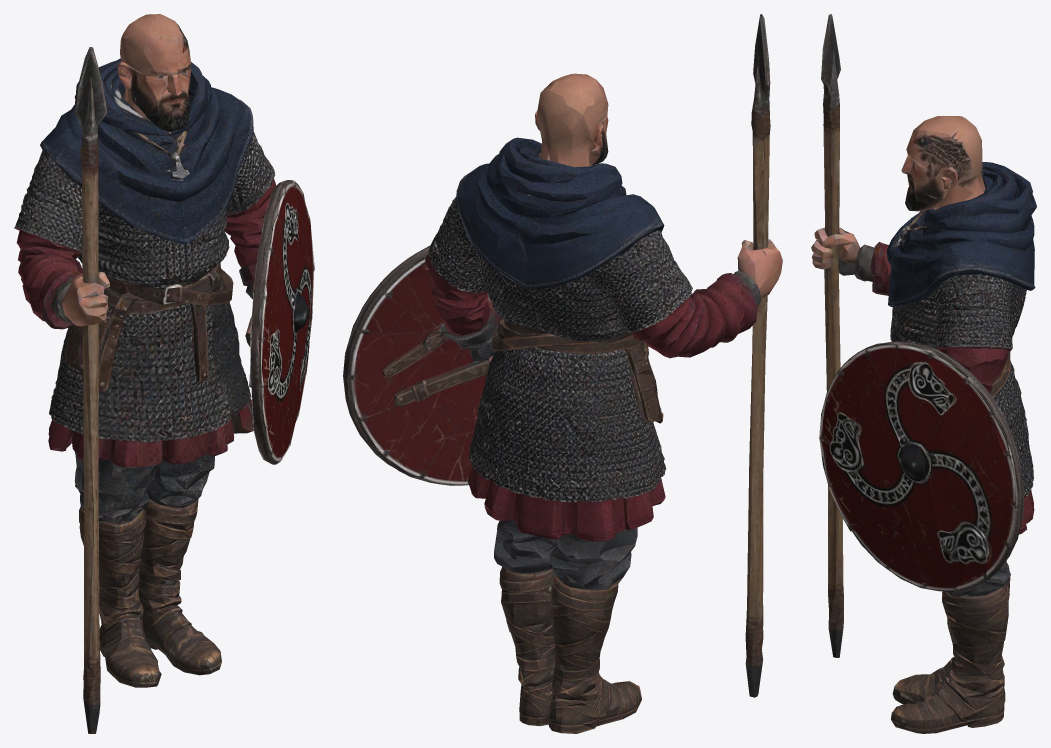
File: hullsborg-jarl.glb
3 renders of one model, left to right at view 1: azimuth 30°, elevation 25°; view 2: azimuth 150°, elevation 25°; view 3: azimuth 270°, elevation 25°, orthographic. The views are drawn at different scales.
Parts seen in each view (by area): view 1: Mesh_0; view 2: Mesh_0; view 3: Mesh_0.
Boxes of the visible parts, box(x1,y1,x2,y2) form: Mesh_0: box(14, 14, 314, 733); Mesh_0: box(343, 14, 782, 733); Mesh_0: box(811, 14, 1036, 733).
Bounding box in the file's own units: 0.9916 × 1.9 × 0.6045.
Materials: 1 (1 with a texture image).
